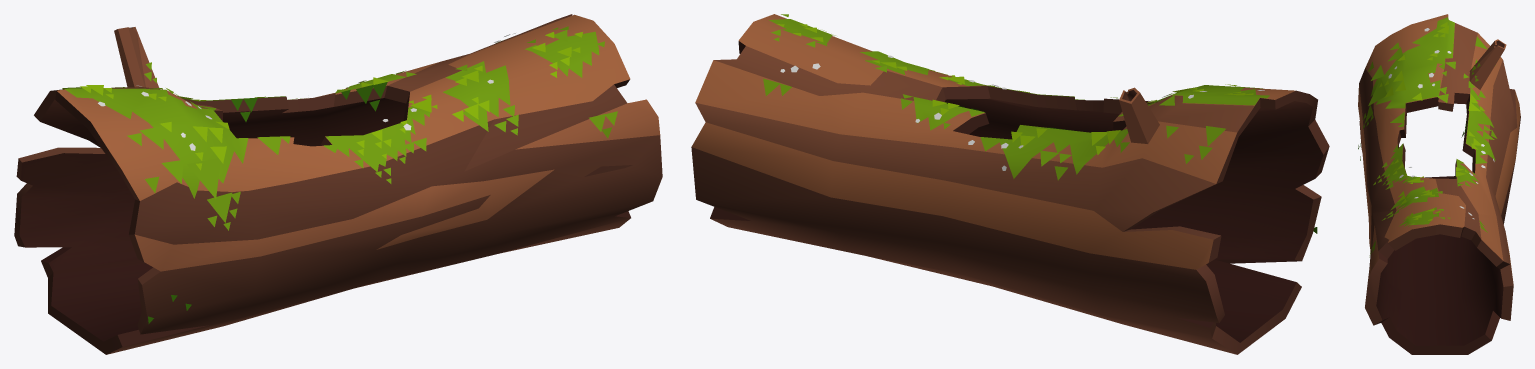
The picture shows the model from 3 angles, left to right: view 1: azimuth 30°, elevation 25°; view 2: azimuth 150°, elevation 25°; view 3: azimuth 270°, elevation 25°; orthographic projection. The views are drawn at different scales.
Parts seen in each view (by area): view 1: Stump_03.001; view 2: Stump_03.001; view 3: Stump_03.001.
Part boxes in pixels (x1=…): Stump_03.001: x1=14, y1=14, x2=662, y2=354; Stump_03.001: x1=691, y1=14, x2=1329, y2=354; Stump_03.001: x1=1358, y1=14, x2=1520, y2=354.
Size of the model in its own units: 7.07 by 3.23 by 2.73.
